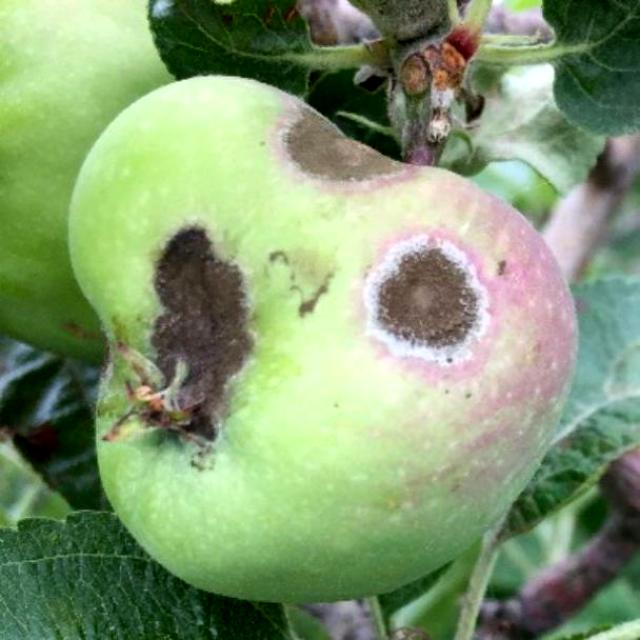SCAB: (64, 54, 600, 598)
